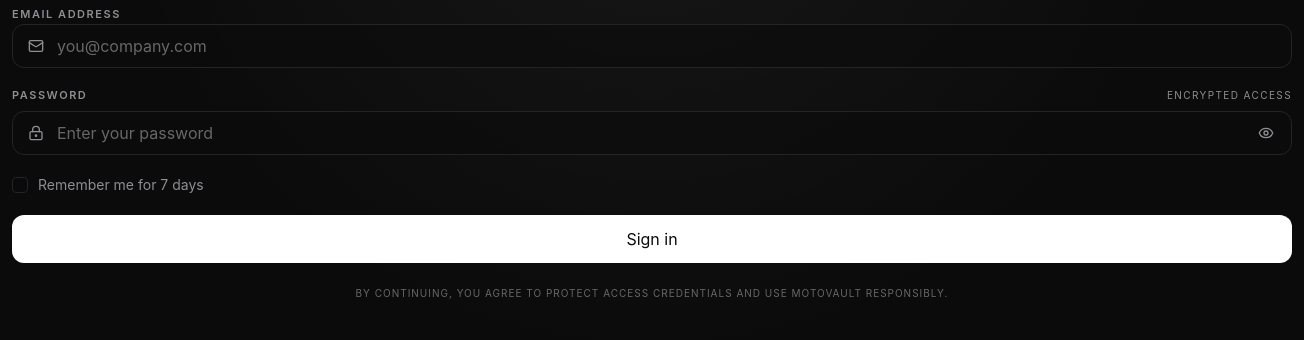
Test: AuthForm › rejects an email without @ and a qualified dotted domain
The image size is (1304, 340).
Type "driver@example" into the field labelled "Email address". click: (652, 46)
box: [12,24,1292,68]
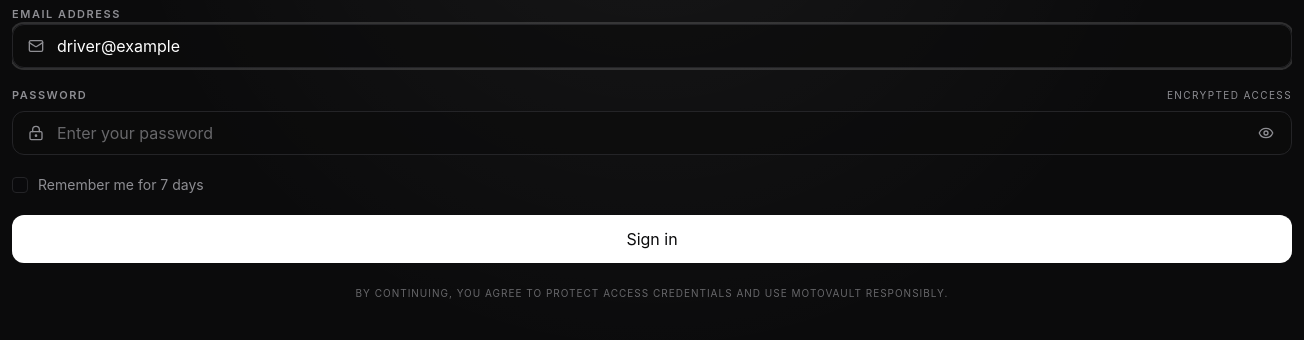
Type "SafePass123!" into the password field labelled "Password". click: (652, 133)
box: [12,111,1292,155]
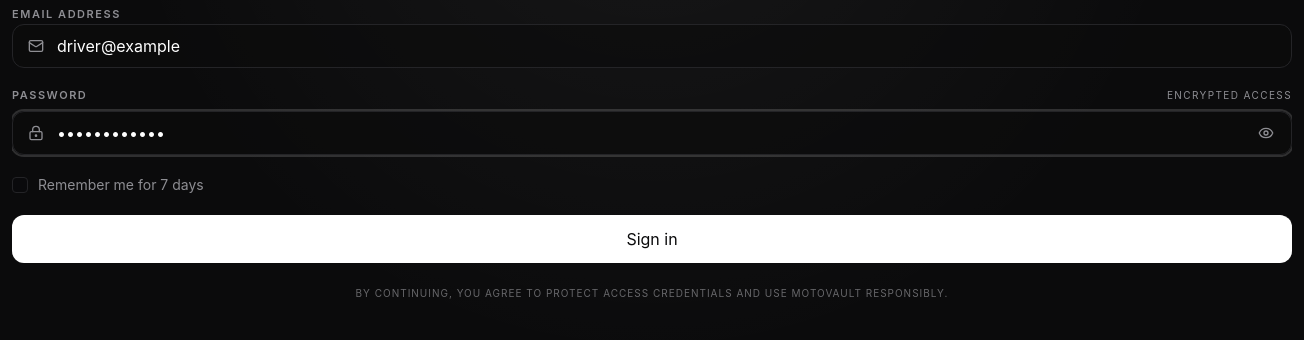
Click the button "Sign in". click: (652, 239)
box: [12,215,1292,263]
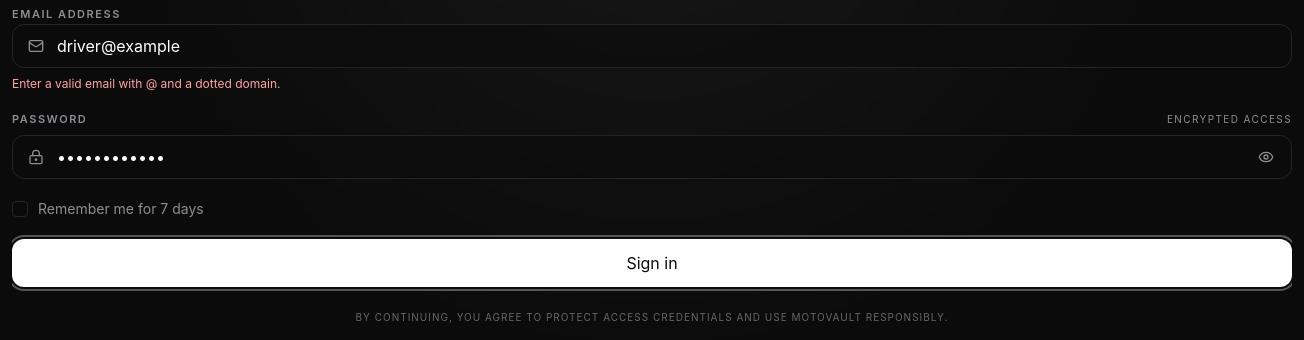
Check: the text "Enter a valid email with @ and a dotted domain." is shown, box [12,76,280,91]
